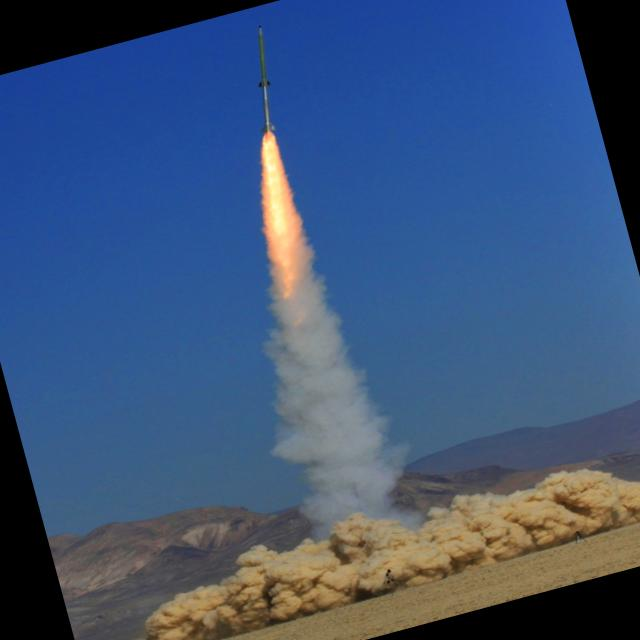rocket: (186, 15, 364, 385)
